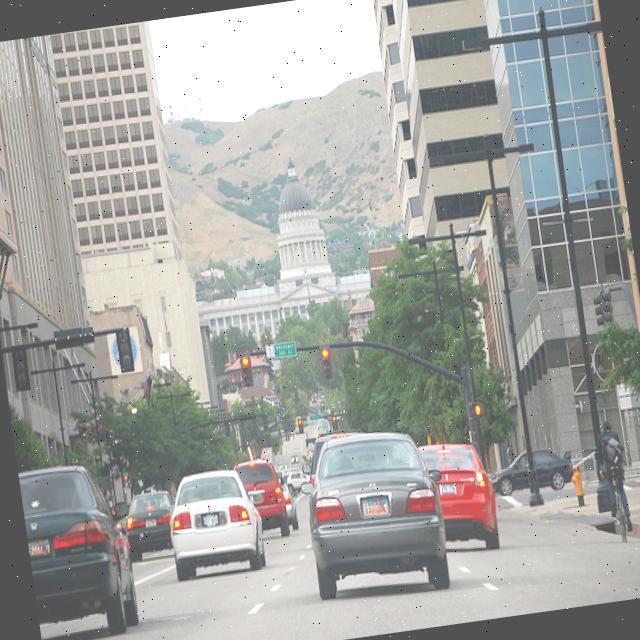fire_hydrant: (569, 466, 584, 496)
